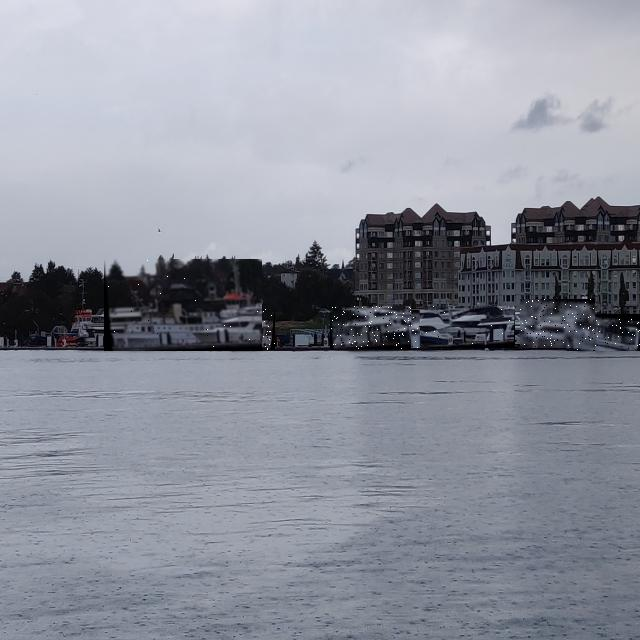boat: (104, 259, 262, 351), (420, 306, 515, 348), (184, 308, 275, 350), (520, 299, 595, 348), (330, 306, 411, 349), (377, 310, 455, 348), (566, 314, 640, 351)
